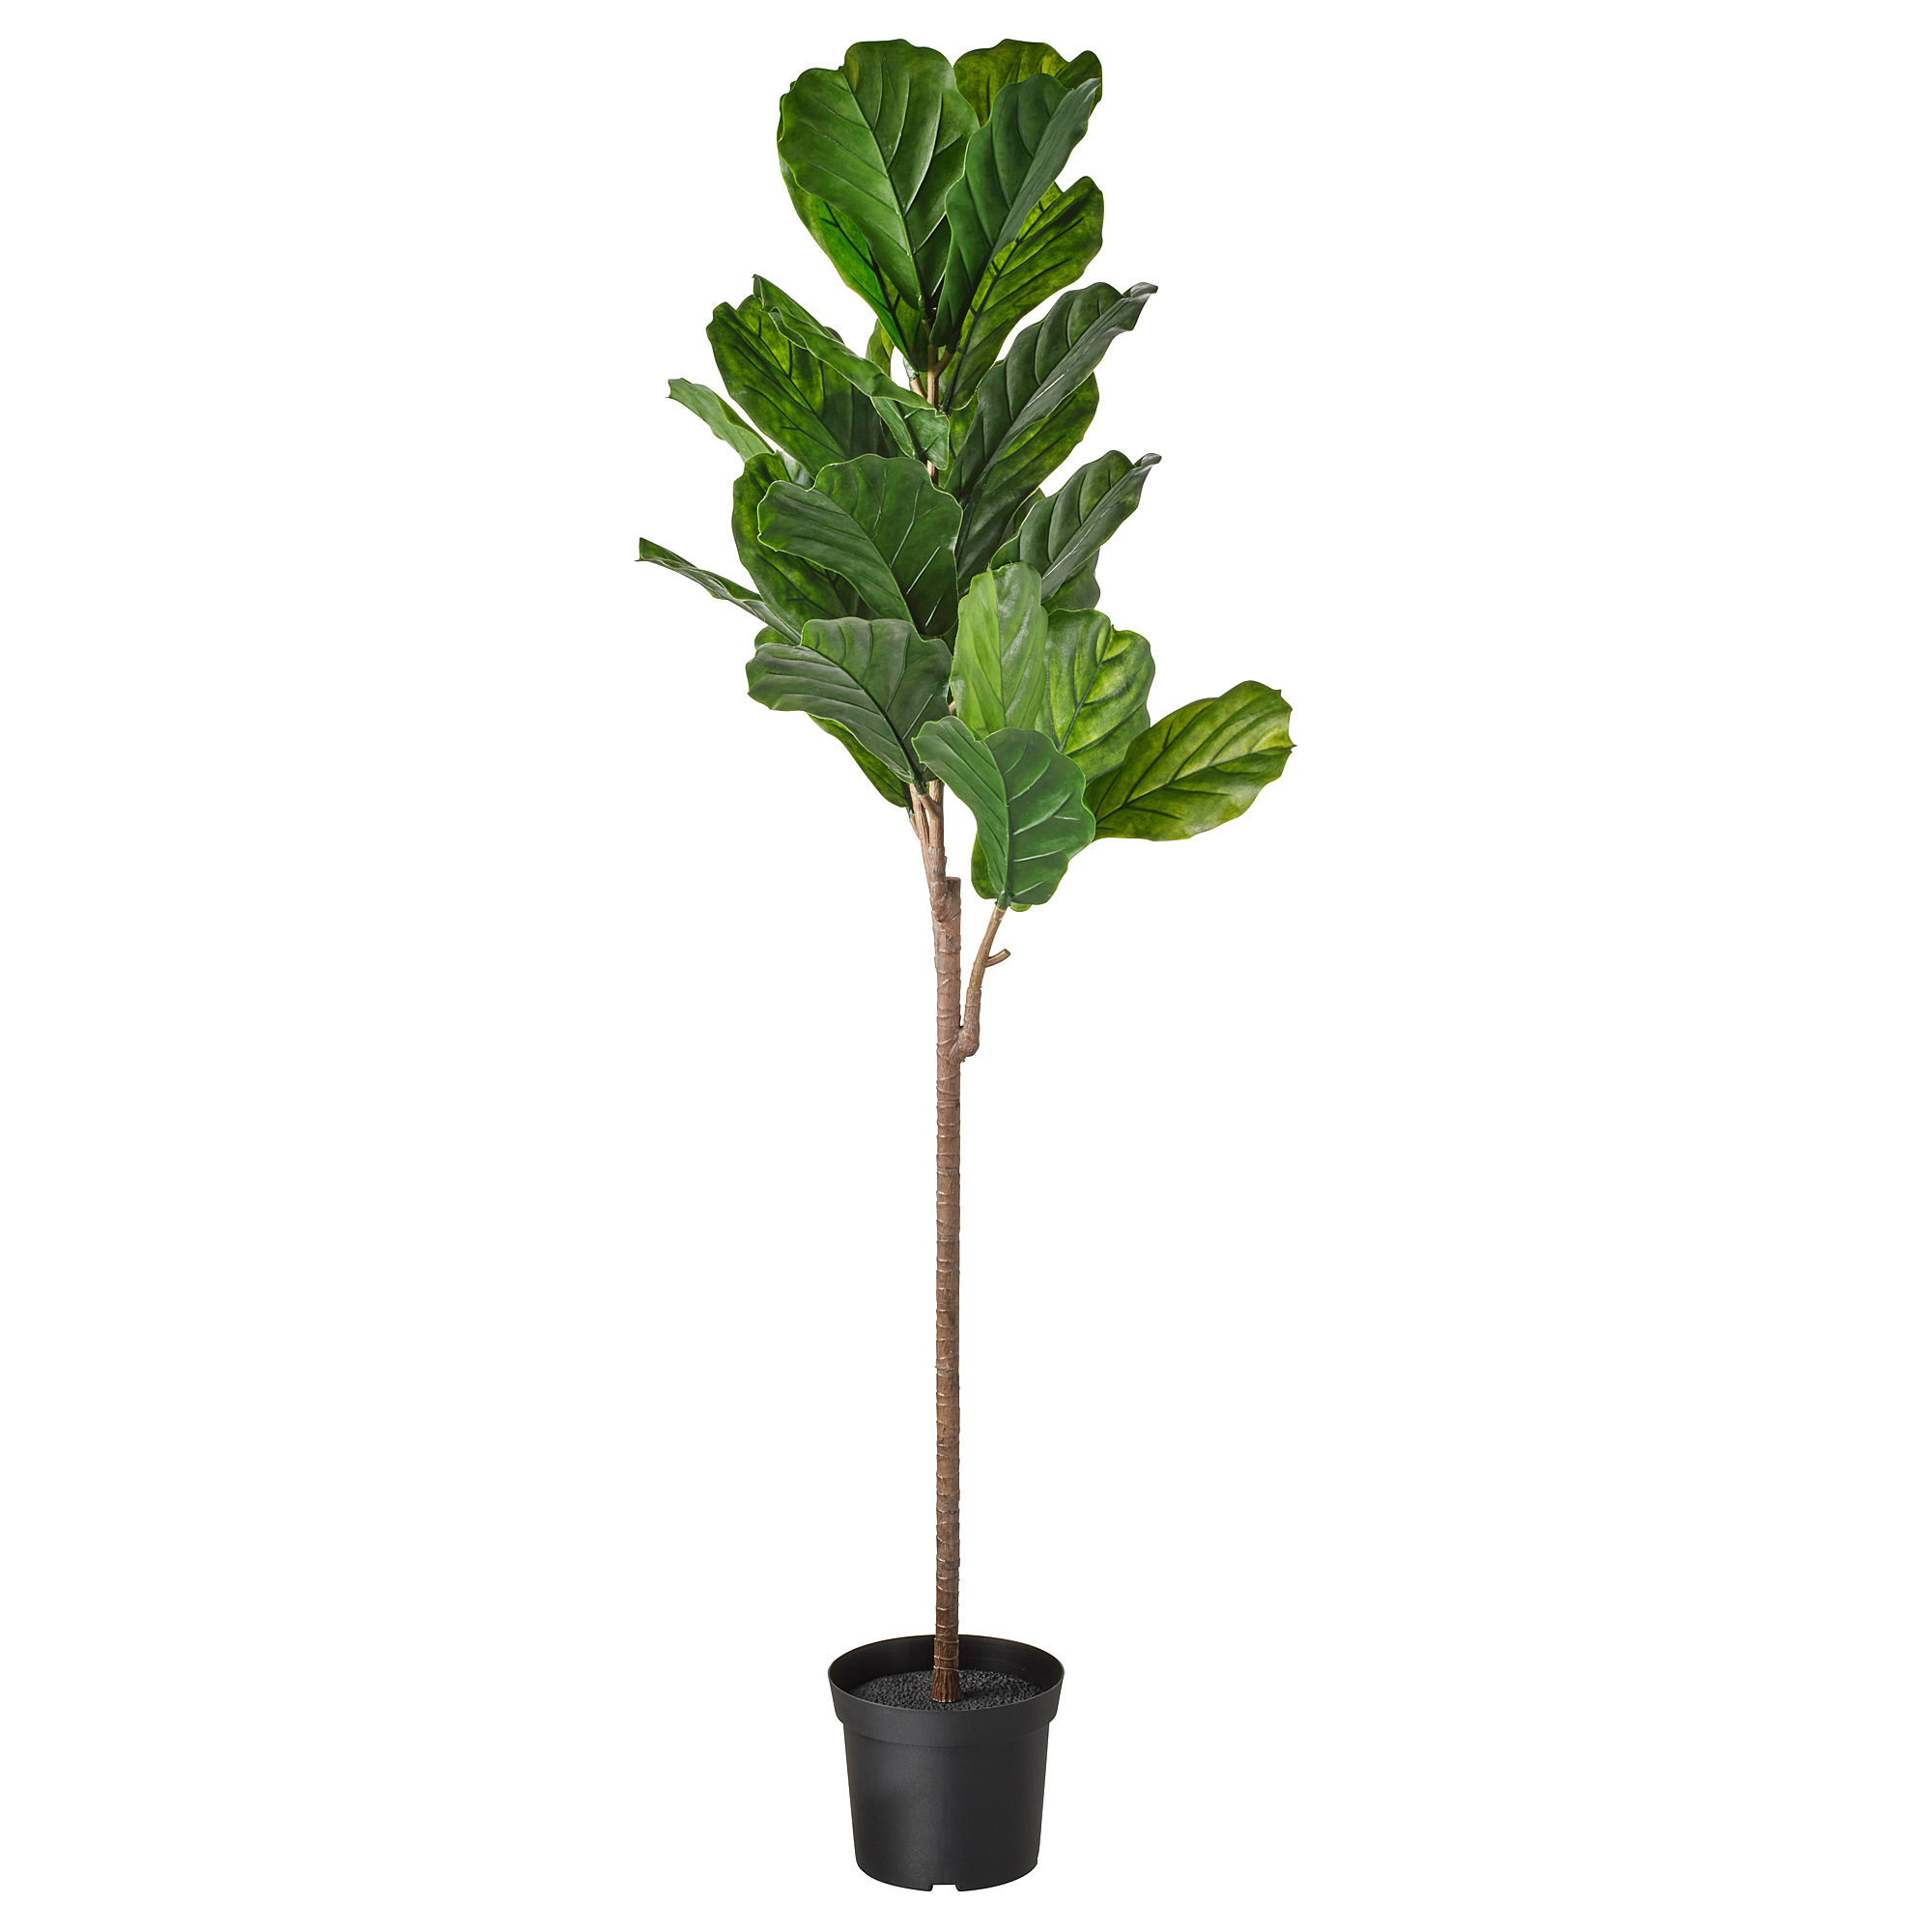tanaman: (648, 9, 1293, 1893)
